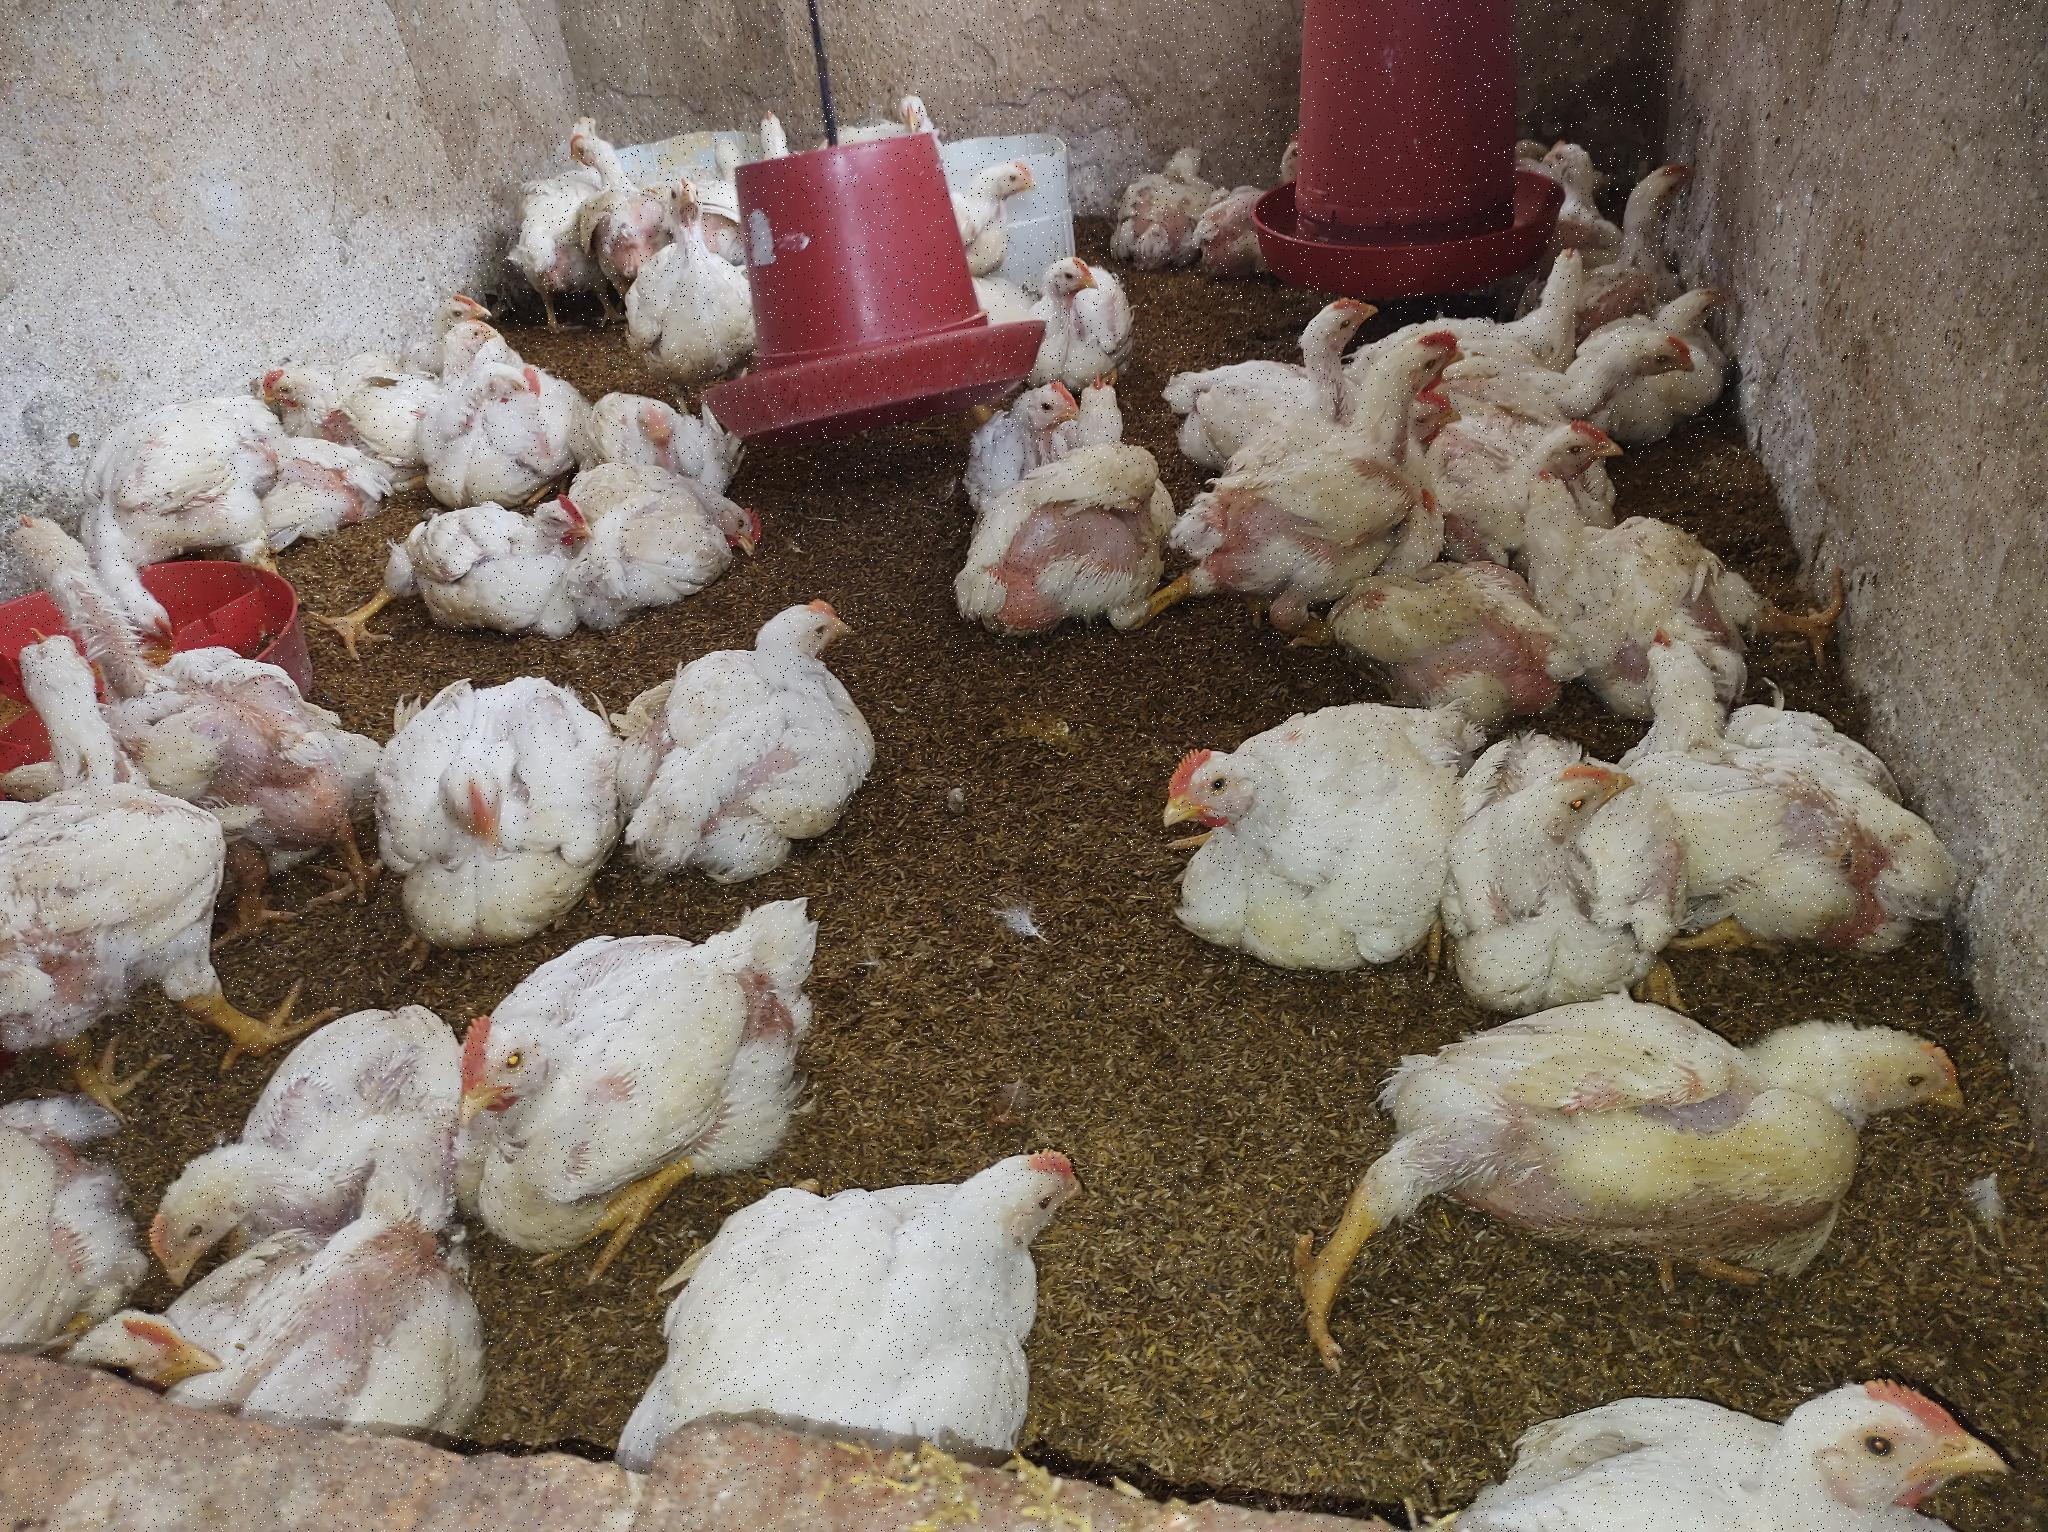Pollos: (1290, 996, 1982, 1368), (10, 520, 381, 906), (652, 1189, 1105, 1482), (457, 922, 820, 1263), (1612, 640, 1992, 948), (2, 632, 225, 1077), (1472, 1369, 2037, 1532), (142, 990, 449, 1286), (608, 586, 890, 908), (1163, 694, 1454, 985), (1413, 734, 1710, 999), (1522, 468, 1860, 695), (1203, 330, 1462, 608), (55, 1295, 566, 1435), (376, 690, 615, 953), (1359, 492, 1581, 713), (92, 409, 296, 628), (1031, 380, 1191, 647), (2, 1086, 145, 1345), (404, 481, 590, 657), (624, 180, 758, 380), (1194, 286, 1376, 426), (1586, 153, 1725, 314), (592, 472, 758, 599), (254, 344, 420, 447), (426, 369, 547, 494), (582, 393, 738, 489), (981, 246, 1100, 369), (1210, 140, 1310, 269), (964, 377, 1078, 478), (265, 434, 385, 529), (1572, 328, 1705, 410), (1509, 410, 1647, 489), (1120, 142, 1213, 254), (1511, 235, 1593, 359), (1541, 129, 1628, 245), (943, 158, 1039, 261), (397, 317, 541, 385), (570, 134, 648, 240), (824, 89, 949, 146), (1392, 383, 1466, 455), (1655, 277, 1726, 335), (706, 122, 751, 196), (759, 111, 811, 164), (430, 288, 499, 323), (550, 105, 608, 146)
